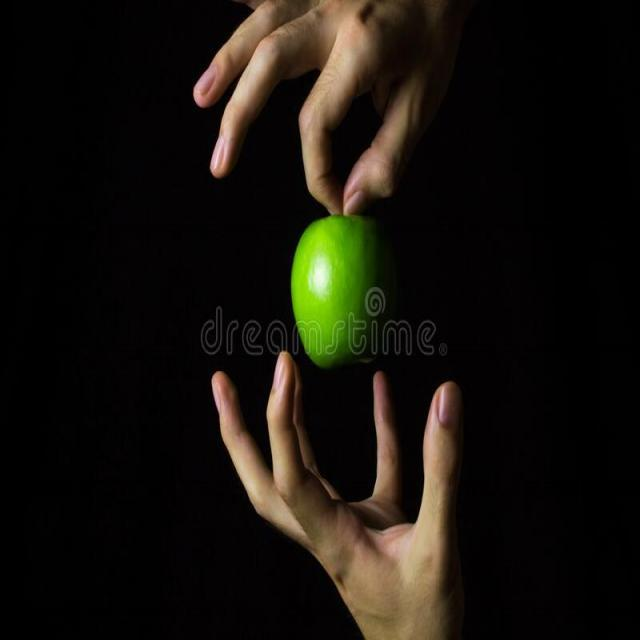Fresh Apple: (278, 218, 412, 375)
